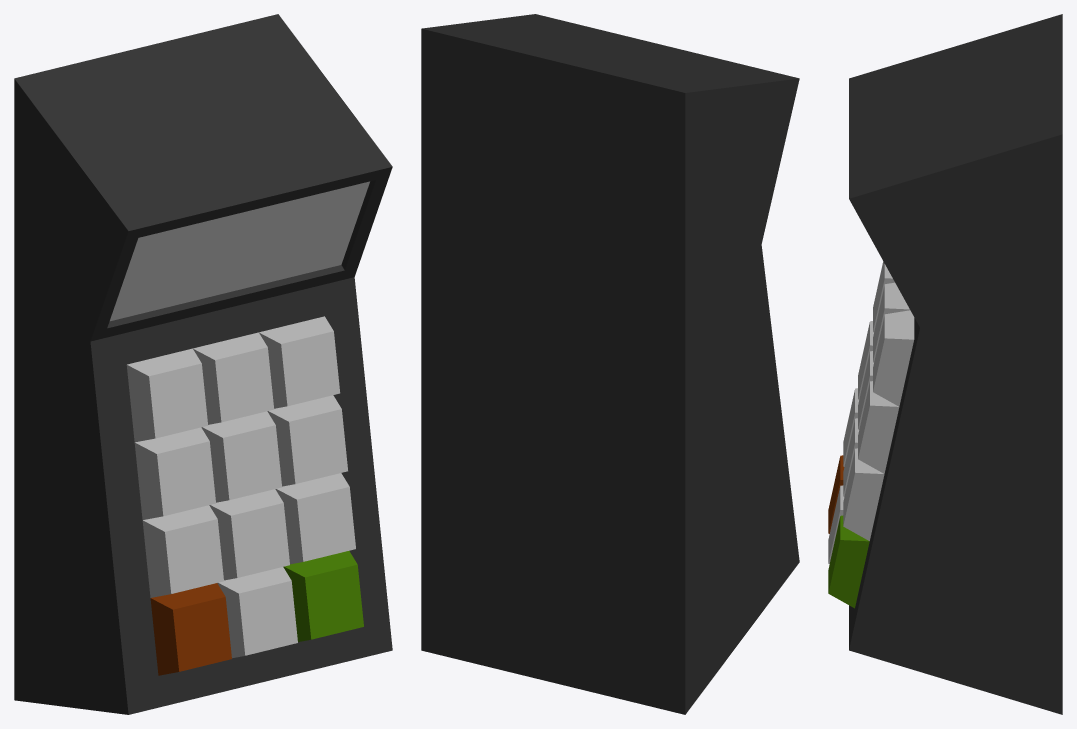
The model's file is Keypad.fbx.
3 views of the same model, side by side, from view 1: azimuth 30°, elevation 25°; view 2: azimuth 150°, elevation 25°; view 3: azimuth 270°, elevation 25° (orthographic). The views are drawn at different scales.
Parts seen in each view (by area): view 1: Keypad; view 2: Keypad; view 3: Keypad.
Part boxes in pixels (x1,y1,x2,y2): Keypad: (14, 14, 392, 714); Keypad: (421, 14, 799, 714); Keypad: (828, 14, 1062, 714).
Size of the model in its own units: 20 by 45 by 16.44.
